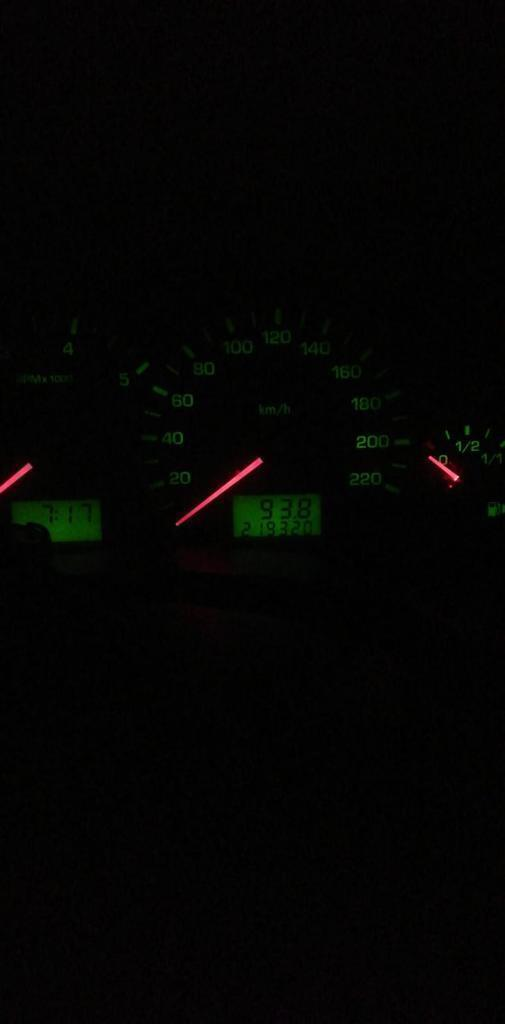,: (292, 513, 296, 519)
0: (303, 520, 313, 535)
1: (258, 521, 264, 537)
2: (241, 521, 251, 536), (291, 520, 300, 535)
3: (279, 497, 292, 519), (278, 520, 288, 537)
8: (297, 497, 311, 518)
9: (259, 498, 272, 519), (266, 520, 275, 537)
odometer: (231, 492, 323, 540)
